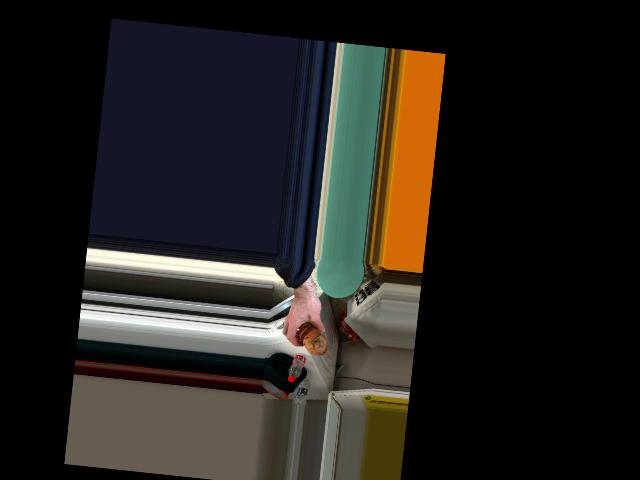sweet_potato: (296, 319, 328, 355)
